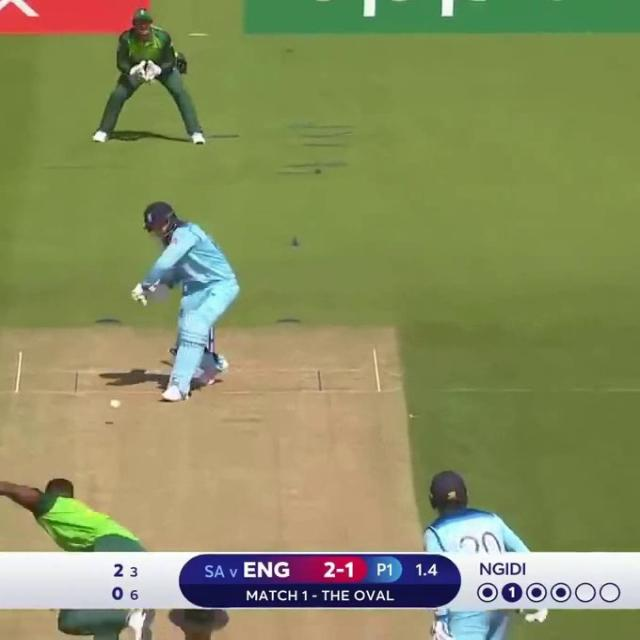bat: (430, 625, 452, 640), (132, 287, 147, 305)
